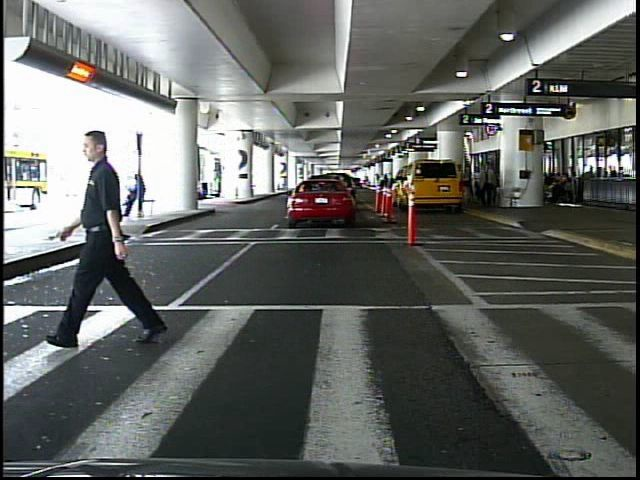person: (79, 125, 164, 349), (479, 163, 497, 209)
